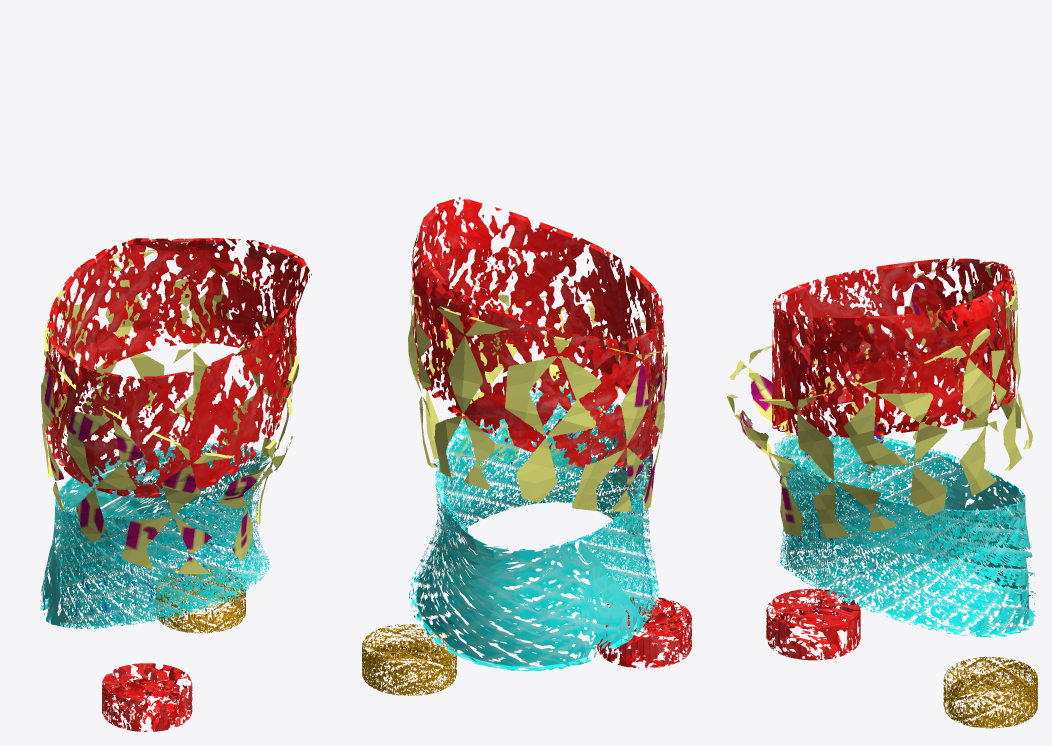
Rendered from pipet.fbx.
3 renders of one model, left to right at view 1: azimuth 30°, elevation 25°; view 2: azimuth 150°, elevation 25°; view 3: azimuth 270°, elevation 25°, orthographic. The views are drawn at different scales.
Visible parts, largest first — view 1: polySurface15, polySurface13, polySurface14, polySurface22, polySurface18; view 2: polySurface15, polySurface13, polySurface14, polySurface18, polySurface22; view 3: polySurface13, polySurface15, polySurface14, polySurface18, polySurface22.
Boxes of the visible parts, <box> form: polySurface15: <box>45,238,311,497</box>; polySurface13: <box>40,443,269,628</box>; polySurface14: <box>41,249,299,574</box>; polySurface22: <box>102,663,192,731</box>; polySurface18: <box>155,565,245,633</box>; polySurface15: <box>411,197,663,467</box>; polySurface13: <box>409,385,658,671</box>; polySurface14: <box>408,279,667,511</box>; polySurface18: <box>362,624,456,695</box>; polySurface22: <box>597,596,691,668</box>; polySurface13: <box>774,432,1035,637</box>; polySurface15: <box>771,258,1016,437</box>; polySurface14: <box>727,265,1032,538</box>; polySurface18: <box>943,657,1037,728</box>; polySurface22: <box>766,588,860,660</box>.
Size of the model in its own units: 17.49 by 44.59 by 19.55.
Materials: 1 (1 with a texture image).
